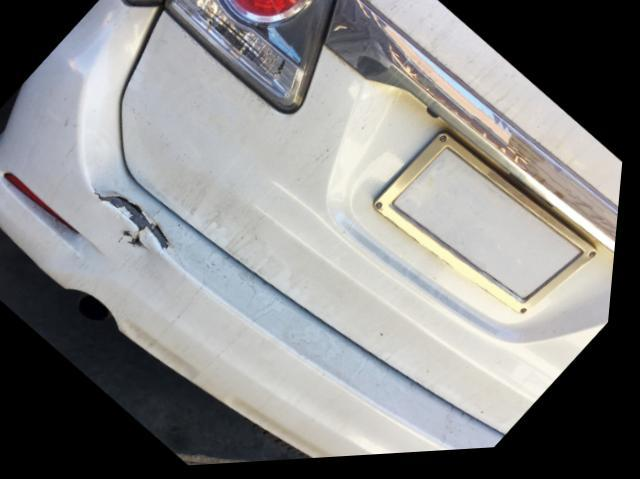scratch: (89, 184, 174, 257)
